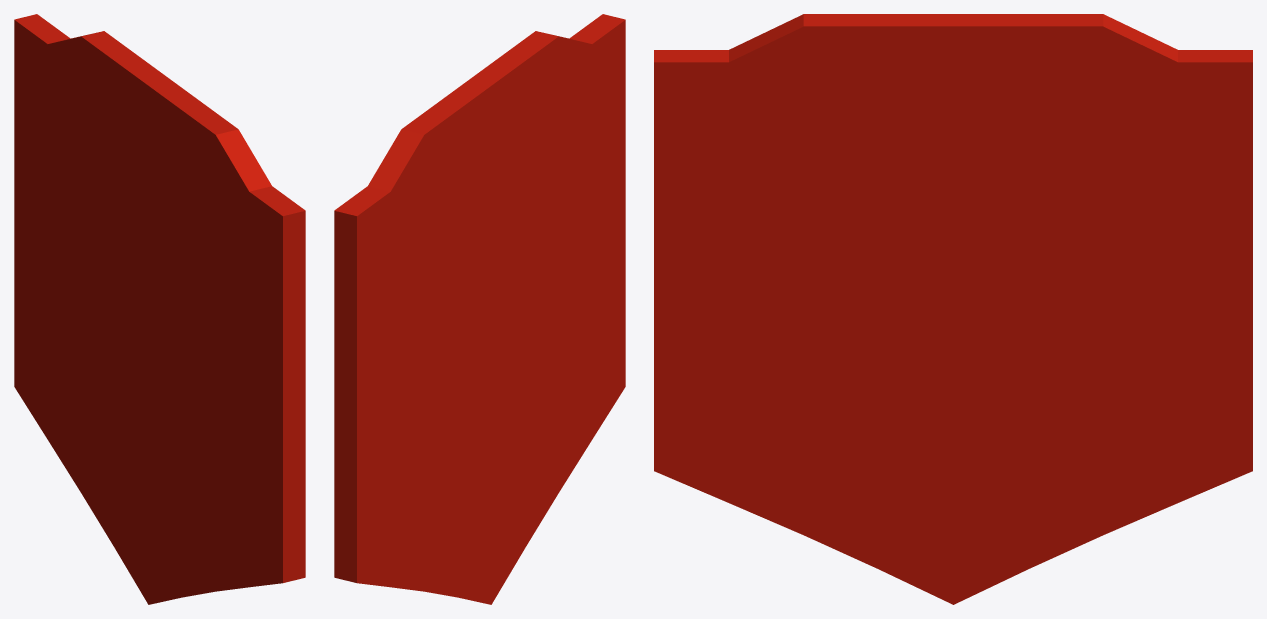
File: mask.obj
The picture shows the model from 3 angles, left to right: view 1: azimuth 30°, elevation 25°; view 2: azimuth 150°, elevation 25°; view 3: azimuth 270°, elevation 25°; orthographic projection. The views are drawn at different scales.
Parts seen in each view (by area): view 1: Cube; view 2: Cube; view 3: Cube.
Boxes of the visible parts, <box> form: Cube: <box>14,14,305,604</box>; Cube: <box>334,14,625,604</box>; Cube: <box>654,14,1252,604</box>.
Bounding box in the file's own units: 0.0987 × 2.13 × 2.
